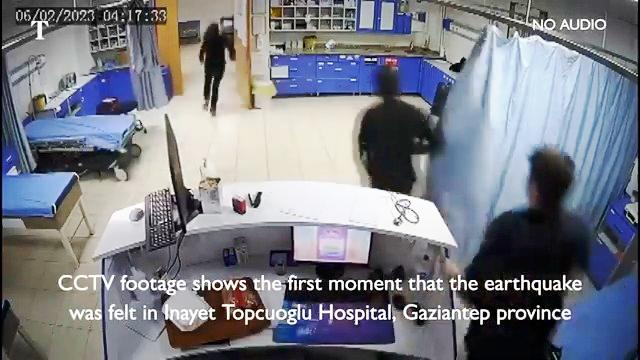berlari: (198, 22, 238, 116)
